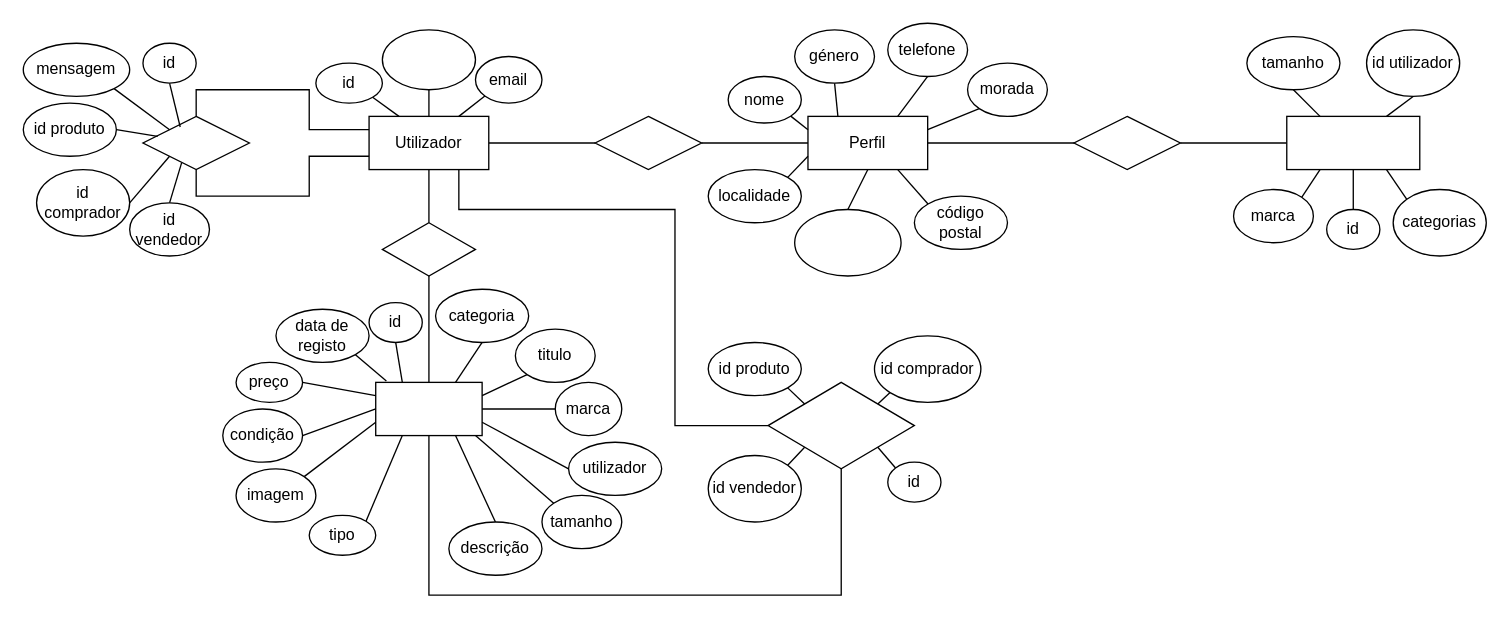
This 1510x620 diagram has some shape labels left out. Here are the shapes that lost their labels. From the top down, the centre of each, then its label:
(428,59): password
(195,142): Chat
(648,142): têm
(1126,142): existem
(1352,142): Preferências
(428,248): regista
(847,242): data de nascimento
(428,408): Produto
(840,425): compra/venda
